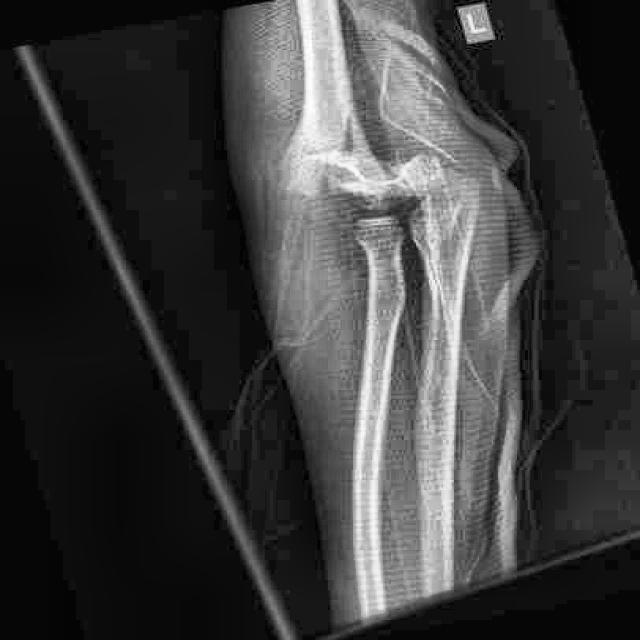elbow positive: (288, 99, 386, 163)
